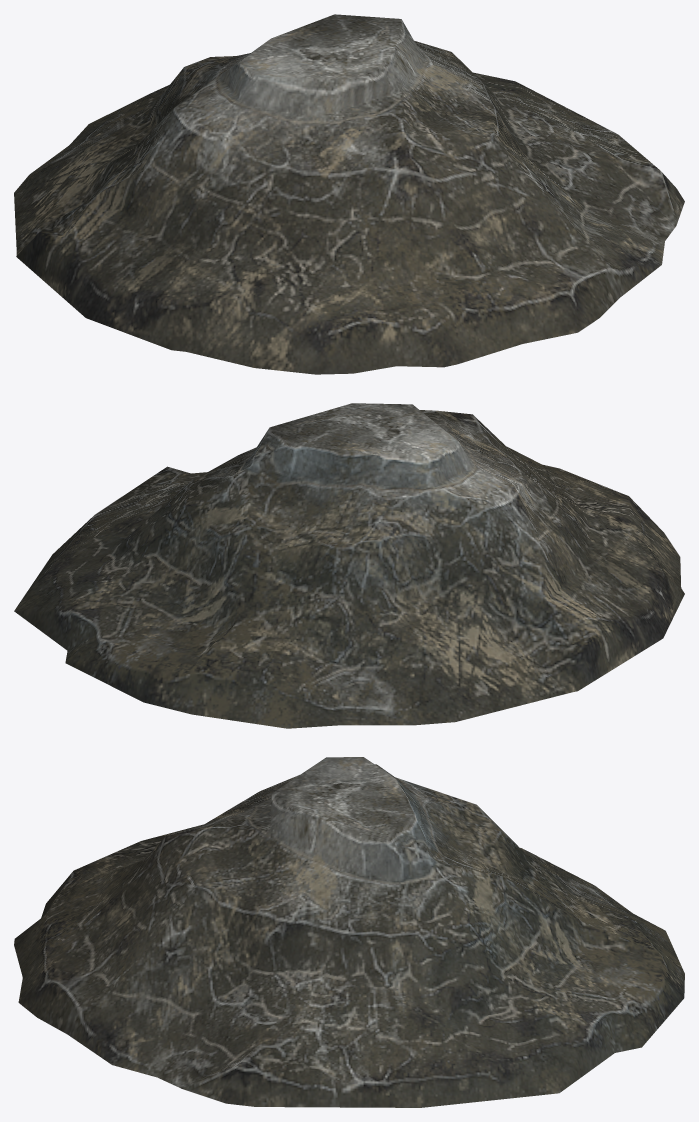
The model's file is mountain2.glb.
3 views of the same model, one above another, from view 1: azimuth 30°, elevation 25°; view 2: azimuth 150°, elevation 25°; view 3: azimuth 270°, elevation 25° (orthographic). The views are drawn at different scales.
Parts seen in each view (by area): view 1: mountain4; view 2: mountain4; view 3: mountain4.
Part boxes in pixels (x1,y1,x2,y2): mountain4: [14, 14, 684, 374]; mountain4: [14, 403, 684, 728]; mountain4: [14, 757, 684, 1107].
Bounding box in the file's own units: 8.02 × 2.39 × 8.37.
Materials: 1 (1 with a texture image).
